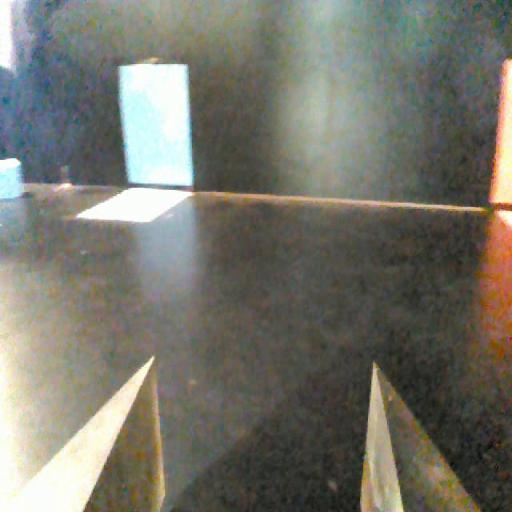cube: (1, 156, 26, 206)
